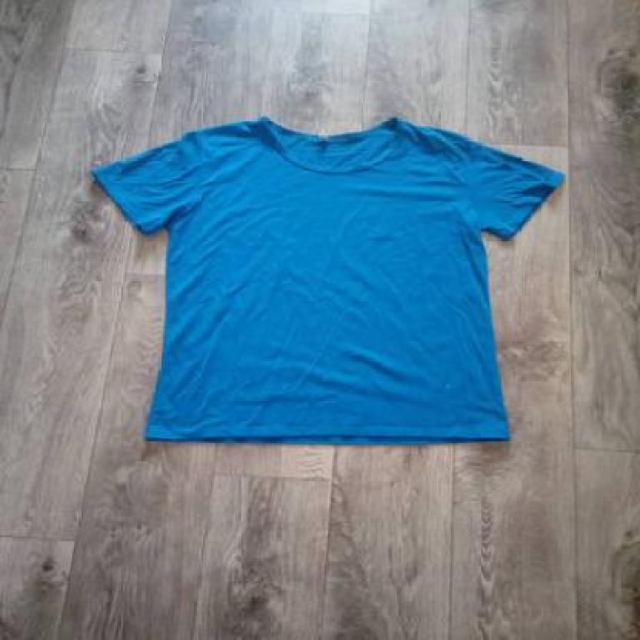shirt: (86, 117, 574, 448)
